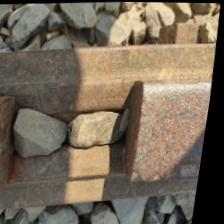person: (0, 53, 188, 219)
